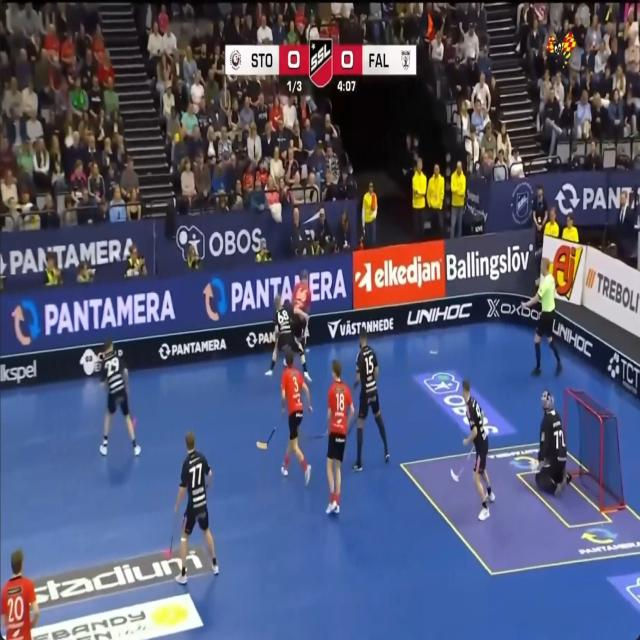player: (175, 431, 218, 583), (353, 328, 389, 471), (522, 257, 562, 375), (462, 380, 495, 521), (100, 339, 140, 455), (326, 360, 354, 512), (281, 350, 312, 484), (265, 294, 310, 382), (535, 390, 570, 495), (0, 550, 39, 639), (292, 269, 311, 349)
stick: (164, 515, 176, 558), (256, 426, 275, 450), (301, 431, 327, 441), (464, 448, 473, 466), (450, 469, 460, 482), (181, 518, 183, 534)
